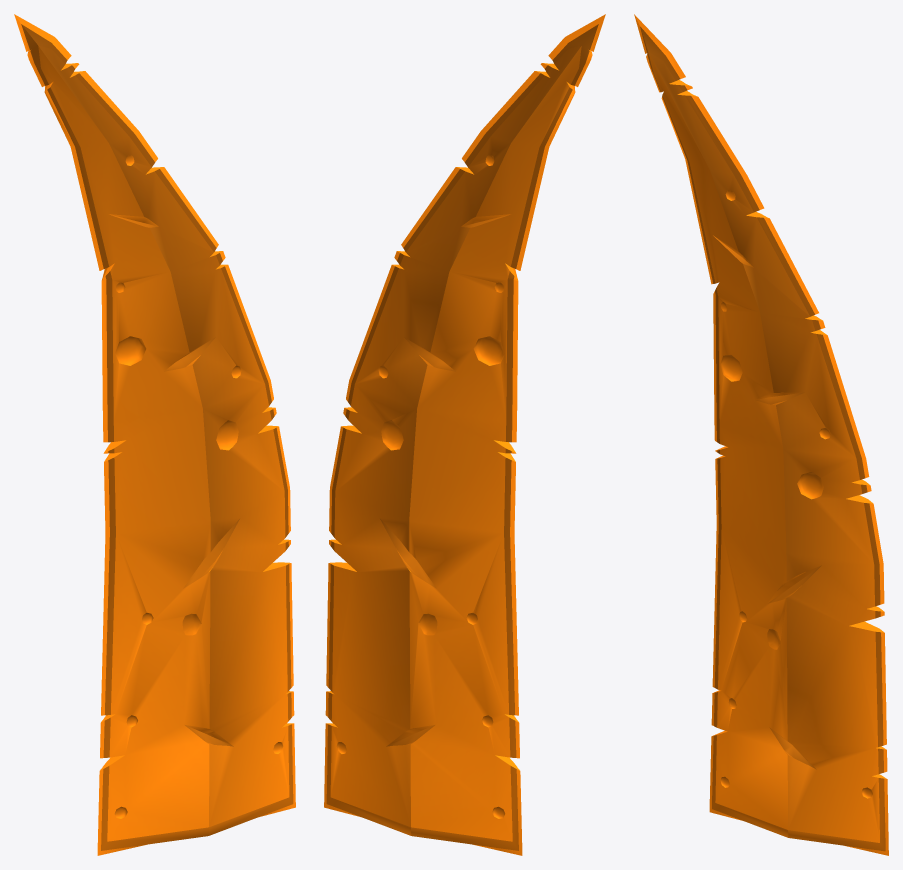
The model's file is bronze_blade_bubbles_032.glb.
The picture shows the model from 3 angles, left to right: view 1: azimuth 30°, elevation 25°; view 2: azimuth 150°, elevation 25°; view 3: azimuth 330°, elevation 25°; orthographic projection. The views are drawn at different scales.
Visible parts, largest first — view 1: bronze_blade_bubbles.032; view 2: bronze_blade_bubbles.032; view 3: bronze_blade_bubbles.032.
Boxes of the visible parts, x1,y1,x2,y2 form: bronze_blade_bubbles.032: (14, 14, 295, 855); bronze_blade_bubbles.032: (324, 14, 605, 855); bronze_blade_bubbles.032: (634, 14, 888, 855).
Size of the model in its own units: 4.2 by 12.29 by 0.7262.
1 material, 1 textured.
